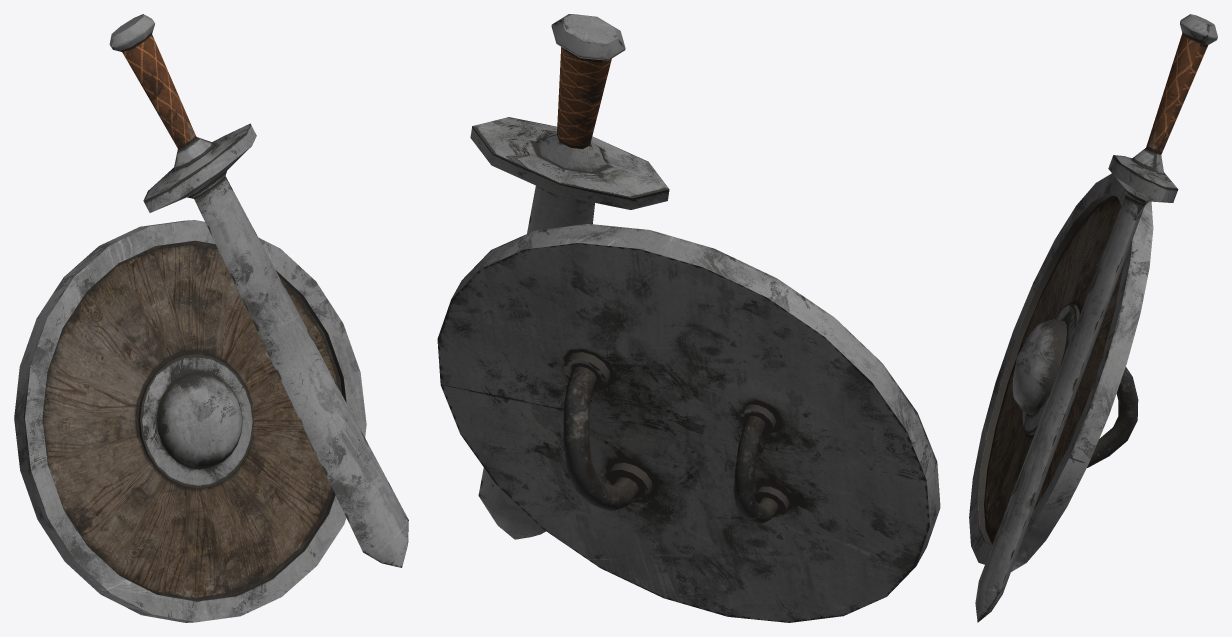
The model's file is SwordShield.obj.
The picture shows the model from 3 angles, left to right: view 1: azimuth 30°, elevation 25°; view 2: azimuth 150°, elevation 25°; view 3: azimuth 270°, elevation 25°; orthographic projection. The views are drawn at different scales.
Visible parts, largest first — view 1: Sword_and_shield; view 2: Sword_and_shield; view 3: Sword_and_shield.
Part boxes in pixels (<box>): Sword_and_shield: <box>14,14,408,622</box>; Sword_and_shield: <box>437,14,940,622</box>; Sword_and_shield: <box>969,14,1217,622</box>.
Size of the model in its own units: 1.73 by 2.38 by 0.9942.
